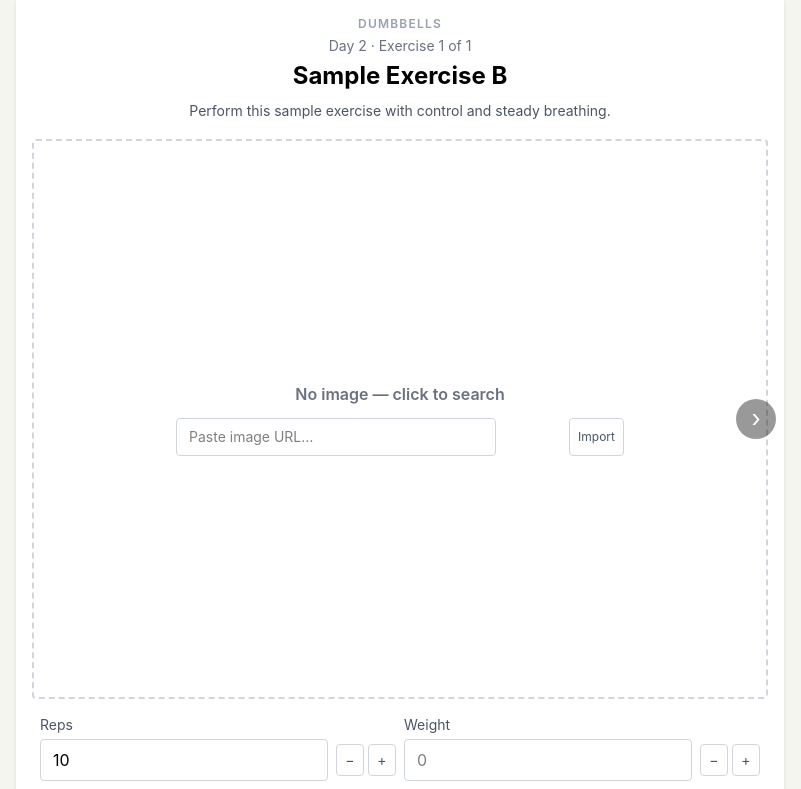
Test: App › adjusts every set with the reps and weight buttons
The image size is (801, 789).
Click the button named "Increase weight". click: (746, 760)
box: [732, 744, 760, 776]
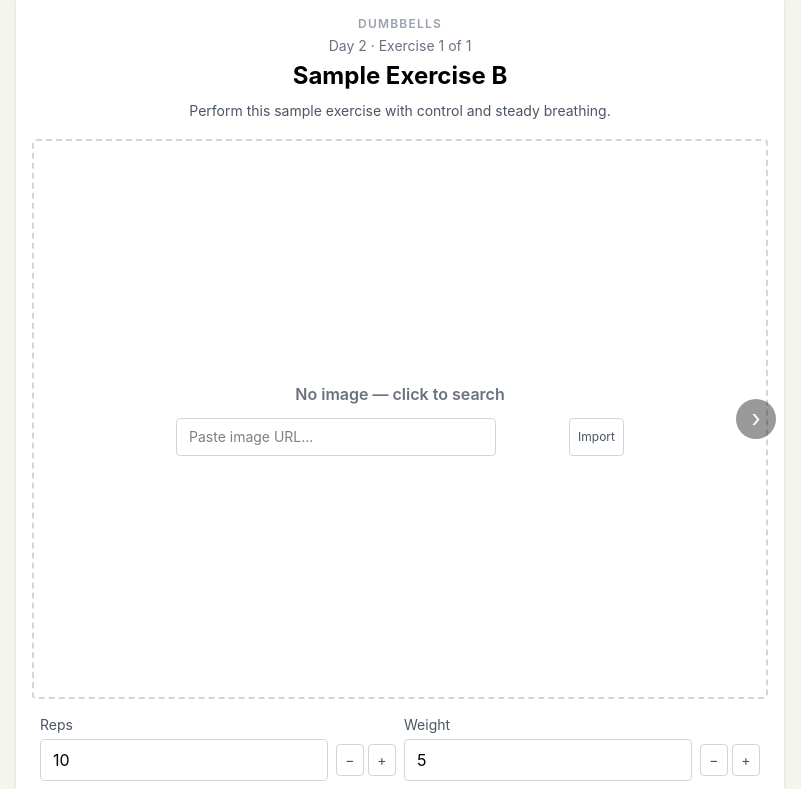
expect the number field named "Set 1 weight" holds "5": met, box [404, 739, 692, 781]
Click the button named "Increase reps". click: (382, 760)
box: [368, 744, 396, 776]
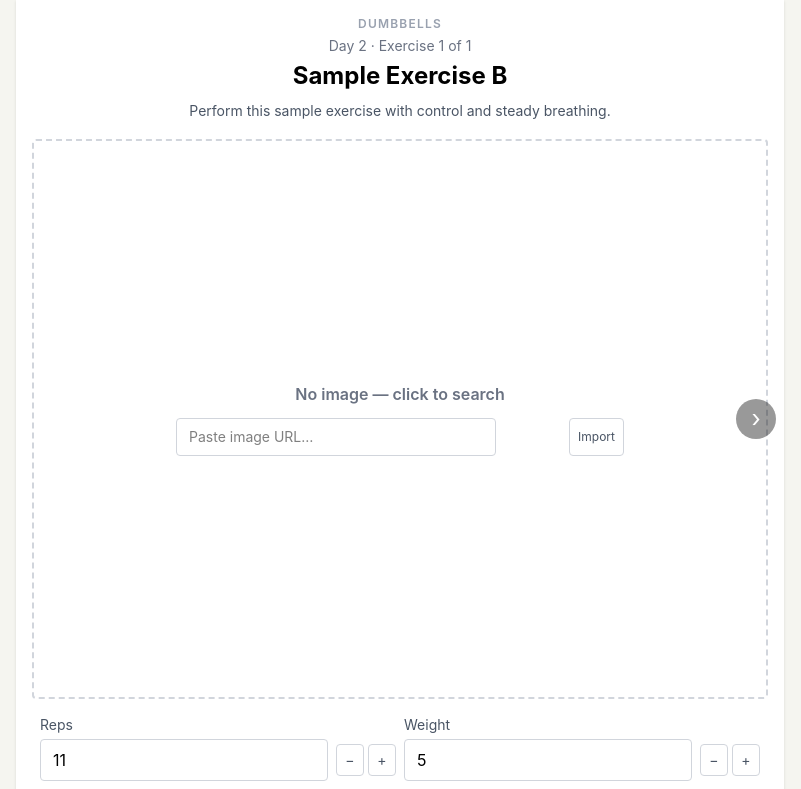
expect the number field named "Set 1 reps" holds "11": met, box [40, 739, 328, 781]
Click the button named "Decrease reps". click: (350, 760)
box: [336, 744, 364, 776]
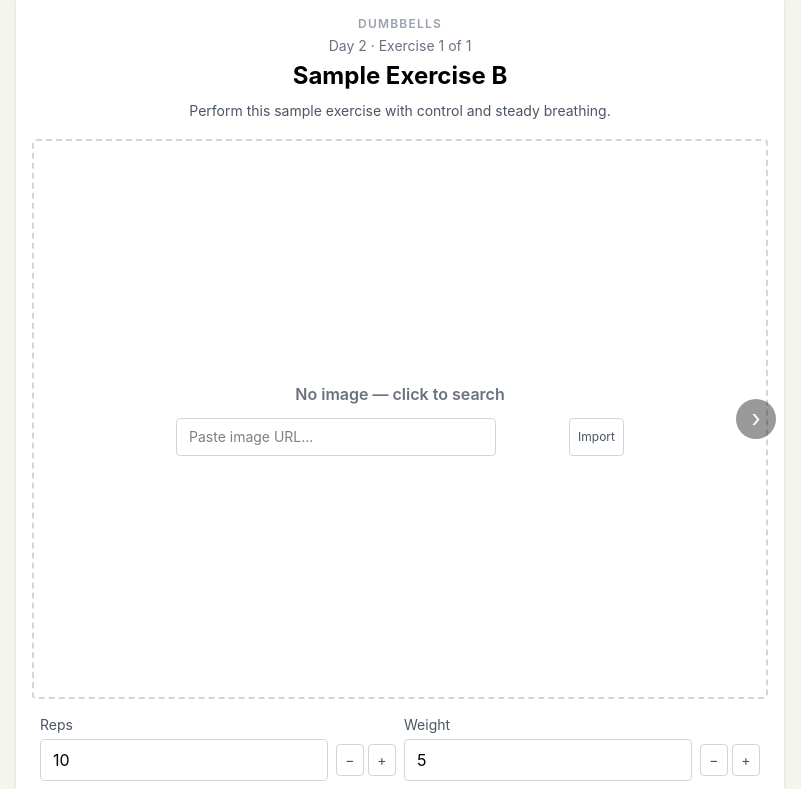
expect the number field named "Set 1 reps" holds "10": met, box [40, 739, 328, 781]
Click the button named "Decrease weight". click: (714, 760)
box: [700, 744, 728, 776]
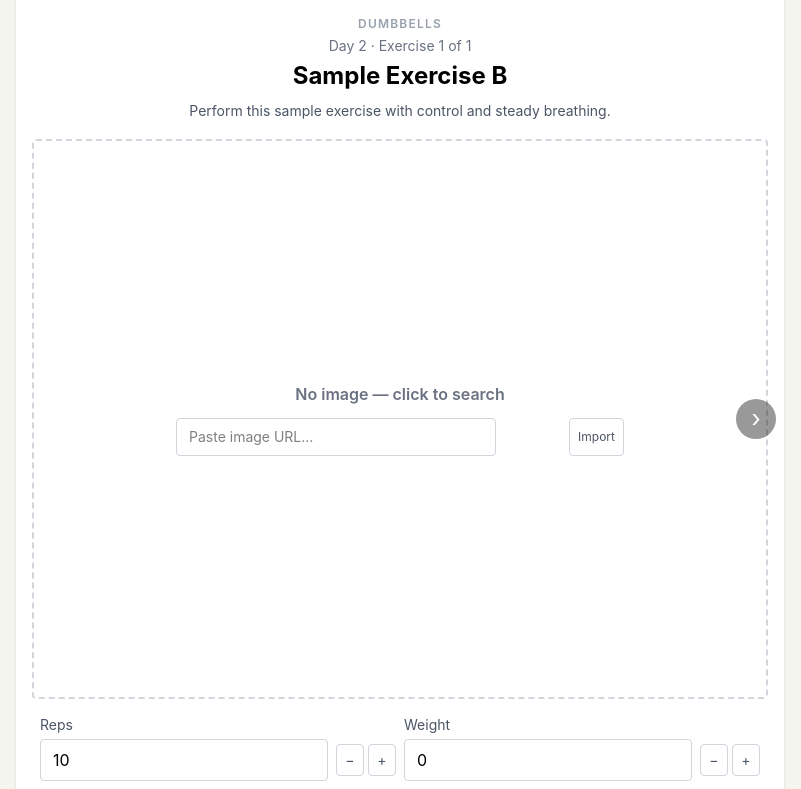
expect the number field named "Set 1 weight" holds "0": met, box [404, 739, 692, 781]
